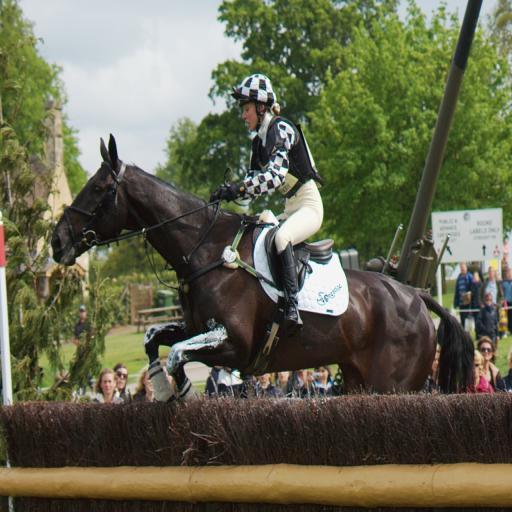Horse: (48, 128, 480, 404)
